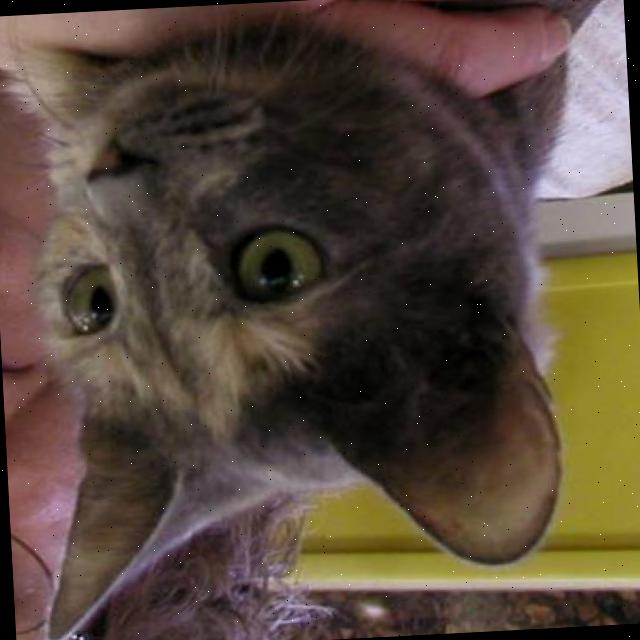cat-eye-normal: (215, 218, 344, 320), (47, 250, 132, 352)
